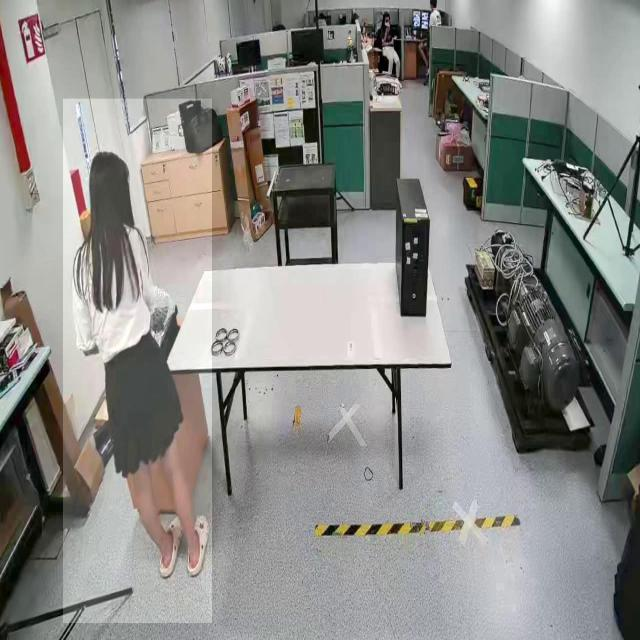face_mask: (382, 15, 391, 35)
head_nohelmet: (88, 150, 128, 187), (382, 10, 390, 15)
person: (63, 99, 213, 624), (374, 12, 400, 79)
